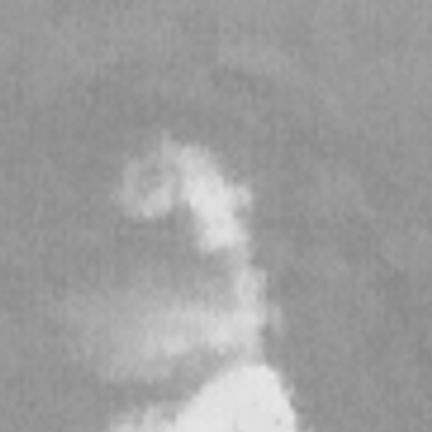flukeprints: (117, 363, 300, 431), (177, 148, 250, 251)
